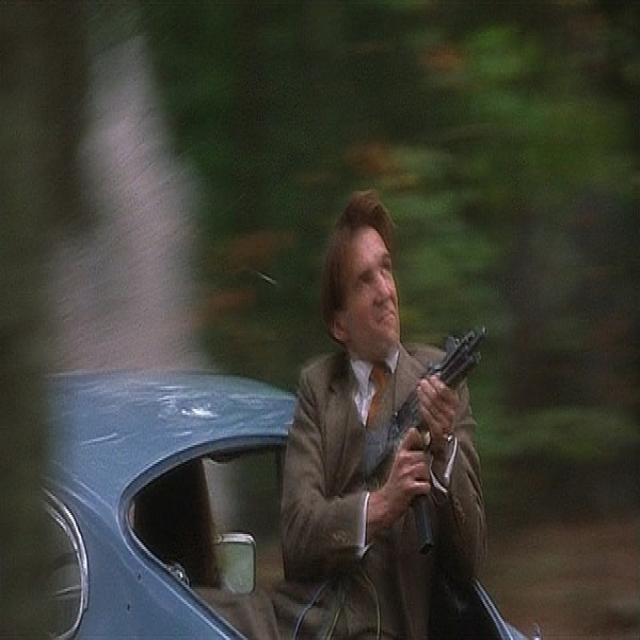rifle: (371, 313, 490, 564)
